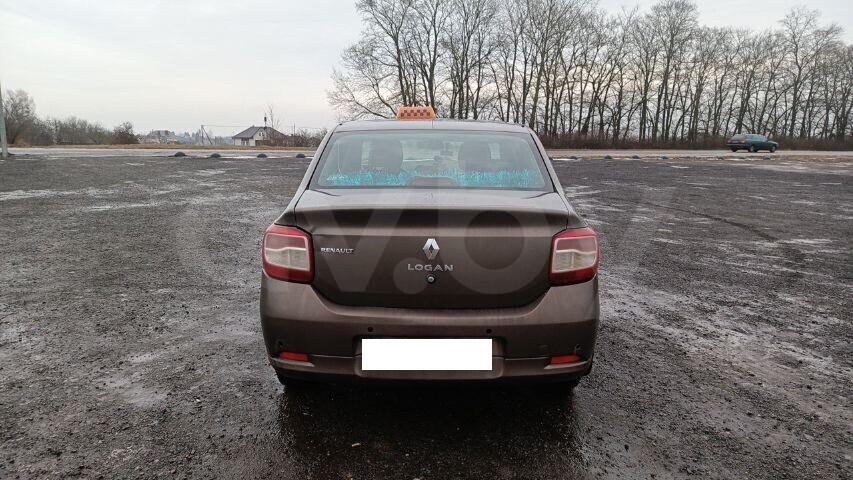Logan_2018: (257, 116, 609, 406)
